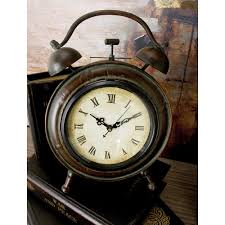alarm_clock: (43, 4, 172, 192)
